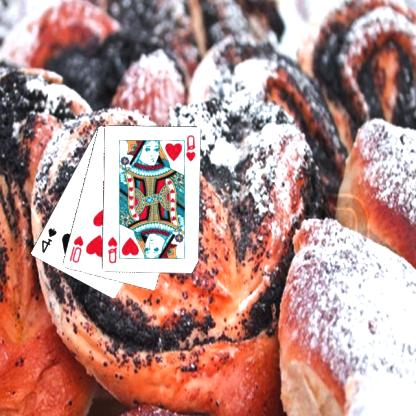10H: (68, 233, 86, 264)
4S: (40, 225, 60, 255)
QH: (182, 132, 198, 167), (106, 234, 121, 265)
